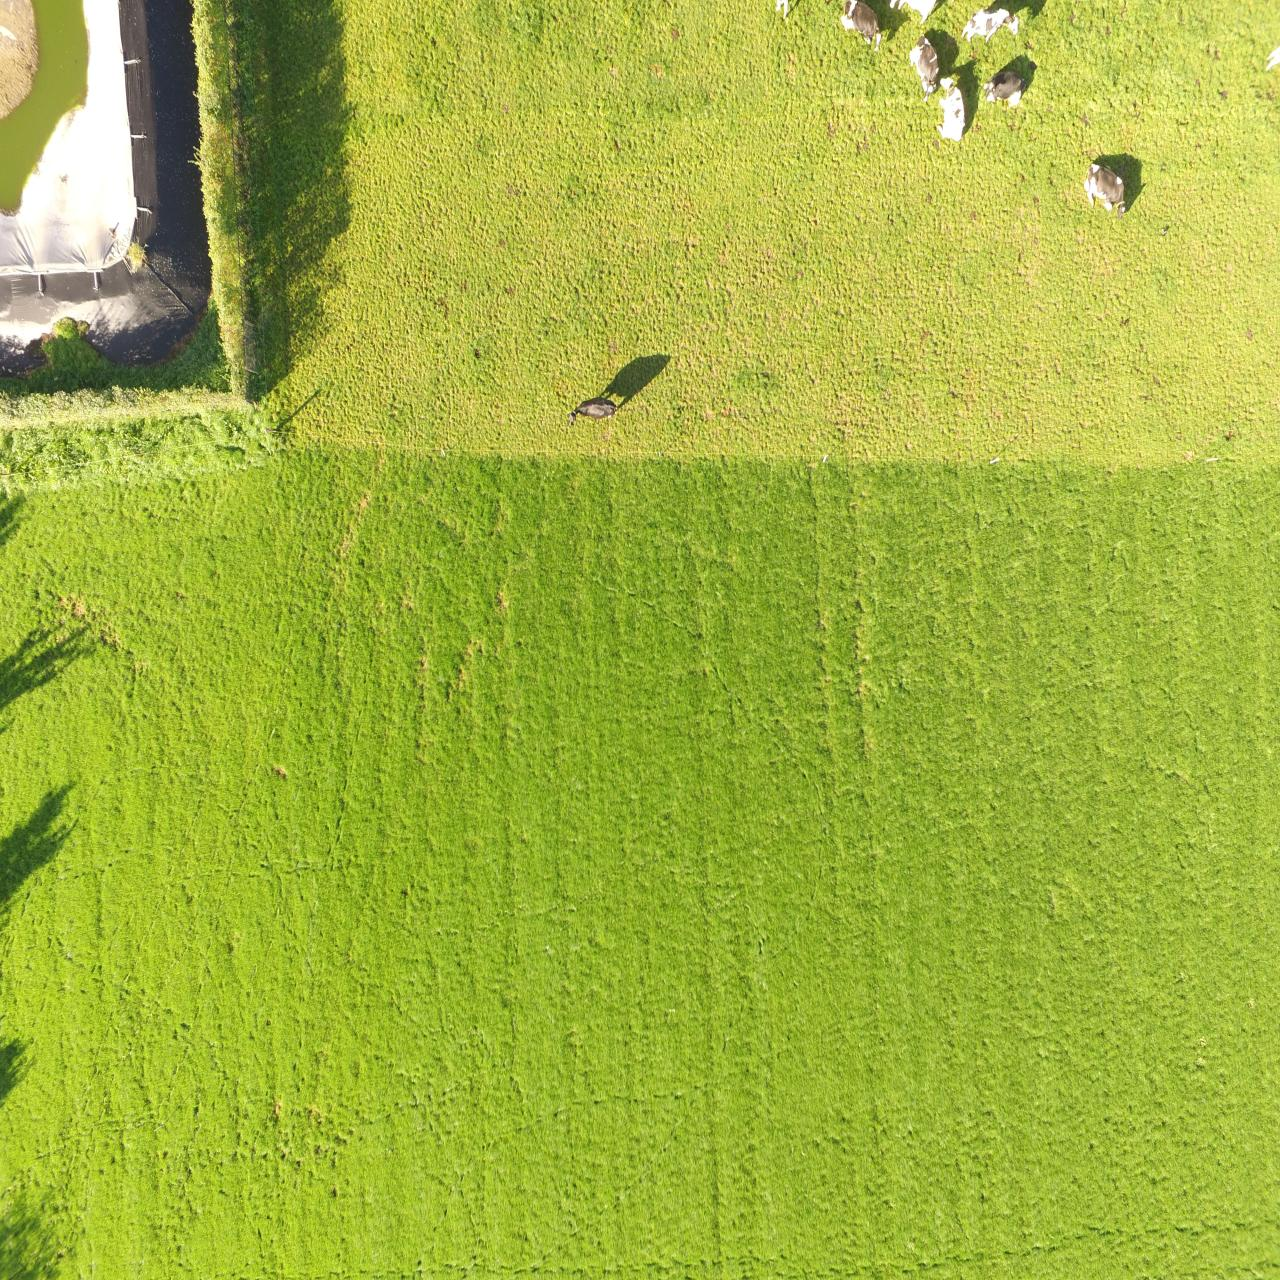cow: (1082, 159, 1130, 222), (836, 0, 885, 50), (907, 32, 941, 100), (934, 76, 967, 145), (961, 7, 1020, 45), (980, 70, 1029, 107), (564, 399, 619, 425)
